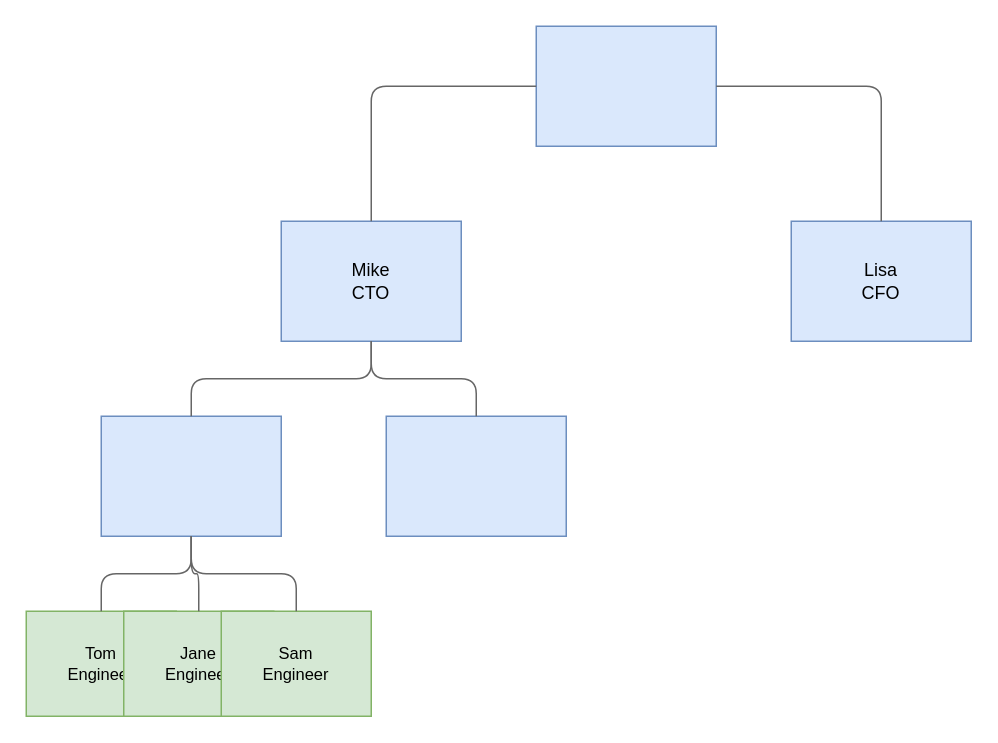
Some shapes in this 998 by 743 pixel diagram are drawn without their labels. The shapes that lost their labels are listed below. From the top down, each one's centre as x and y in pixels, then its label:
At pixel 625 85: "Sarah CEO".
At pixel 190 475: "Bob VP Engineering".
At pixel 475 475: "Alice VP Product".
